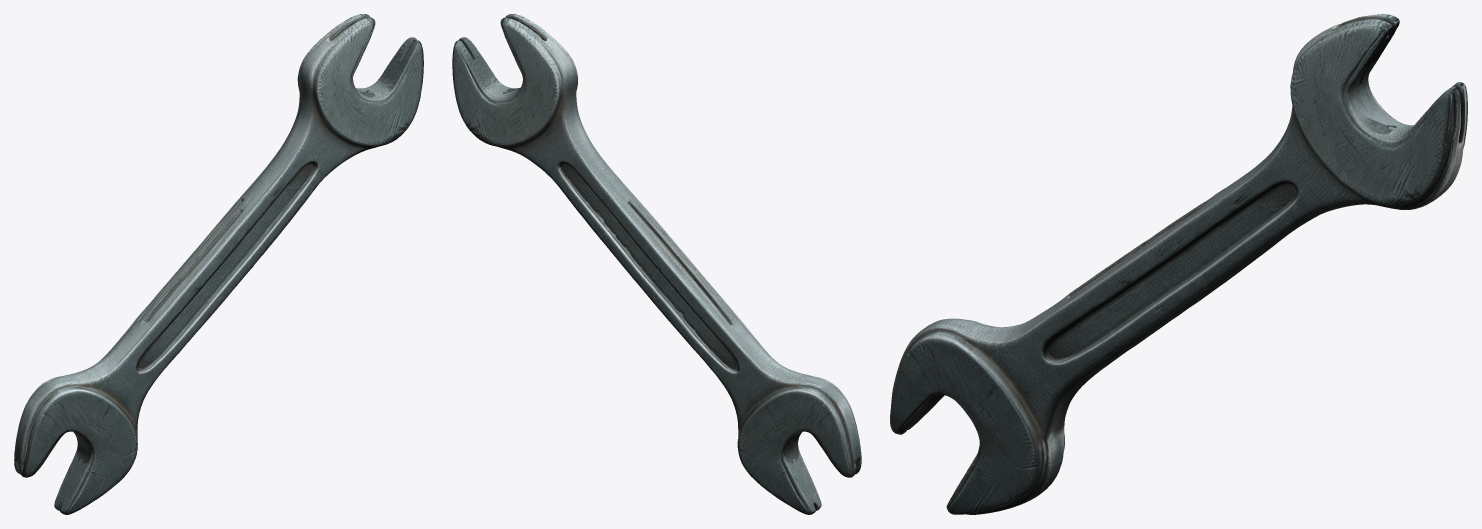
The model's file is Wrench.glb.
3 views of the same model, side by side, from view 1: azimuth 30°, elevation 25°; view 2: azimuth 150°, elevation 25°; view 3: azimuth 330°, elevation 25° (orthographic). The views are drawn at different scales.
Visible parts, largest first — view 1: texture_mapping; view 2: texture_mapping; view 3: texture_mapping.
Boxes of the visible parts, bbox=[...] form: texture_mapping: bbox=[14, 14, 423, 514]; texture_mapping: bbox=[452, 14, 861, 514]; texture_mapping: bbox=[890, 14, 1467, 514].
Size of the model in its own units: 0.999 by 0.9994 by 0.0912.
Materials: 1 (1 with a texture image).
